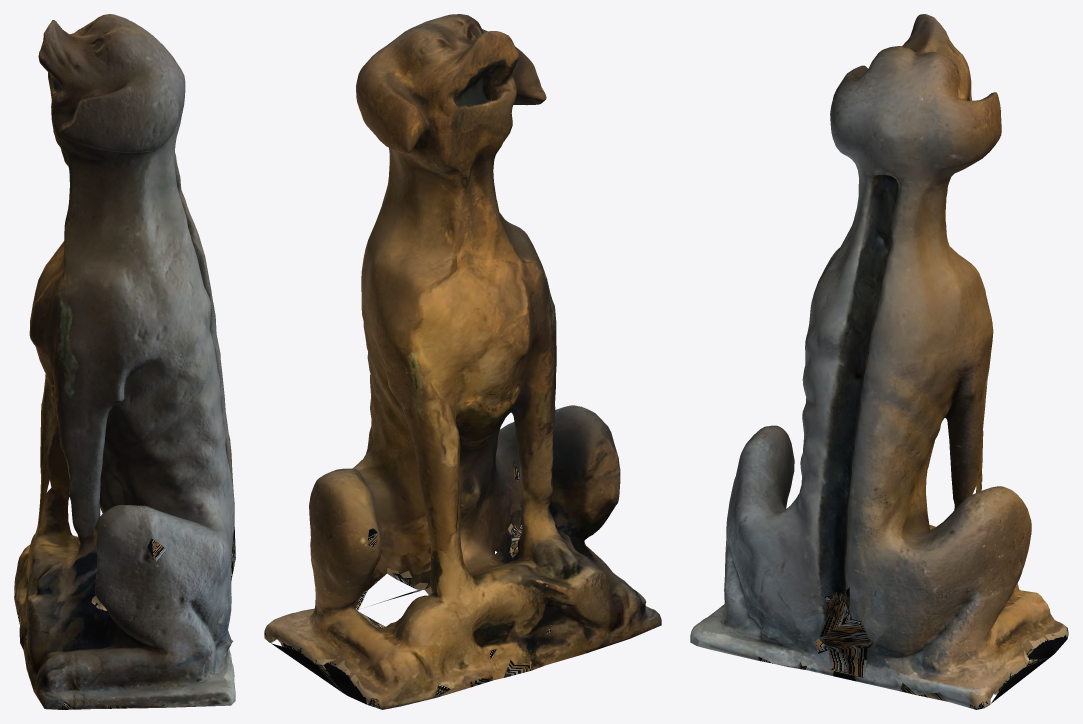
File: 09_dog-with-rabbit.gltf
The picture shows the model from 3 angles, left to right: view 1: azimuth 30°, elevation 25°; view 2: azimuth 150°, elevation 25°; view 3: azimuth 270°, elevation 25°; orthographic projection. The views are drawn at different scales.
Visible parts, largest first — view 1: Mesh_0; view 2: Mesh_0; view 3: Mesh_0.
Boxes of the visible parts, bbox=[...] form: Mesh_0: bbox=[14, 14, 235, 709]; Mesh_0: bbox=[264, 14, 661, 709]; Mesh_0: bbox=[690, 14, 1068, 709].
Size of the model in its own units: 1.92 by 4.04 by 2.3.
4 materials, 4 textured.
